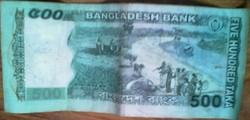500 taka: (1, 1, 241, 118)
